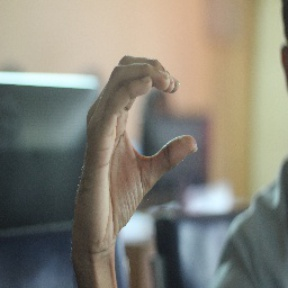C: (87, 48, 206, 188)
